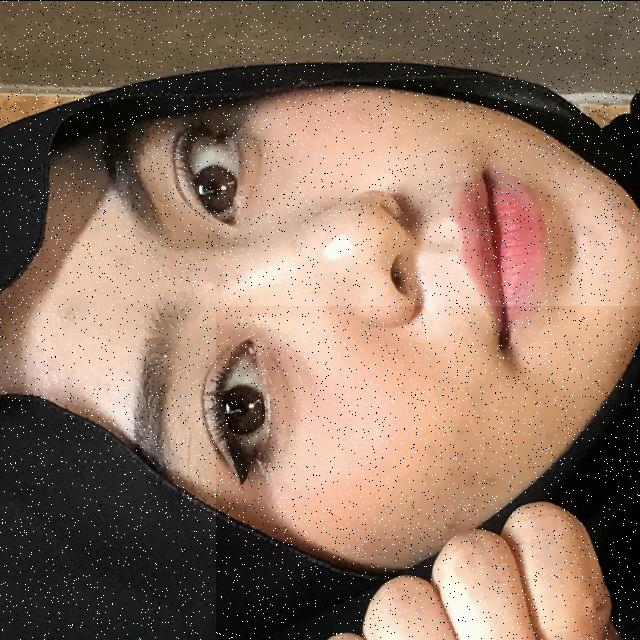sedih: (216, 305, 640, 640)
